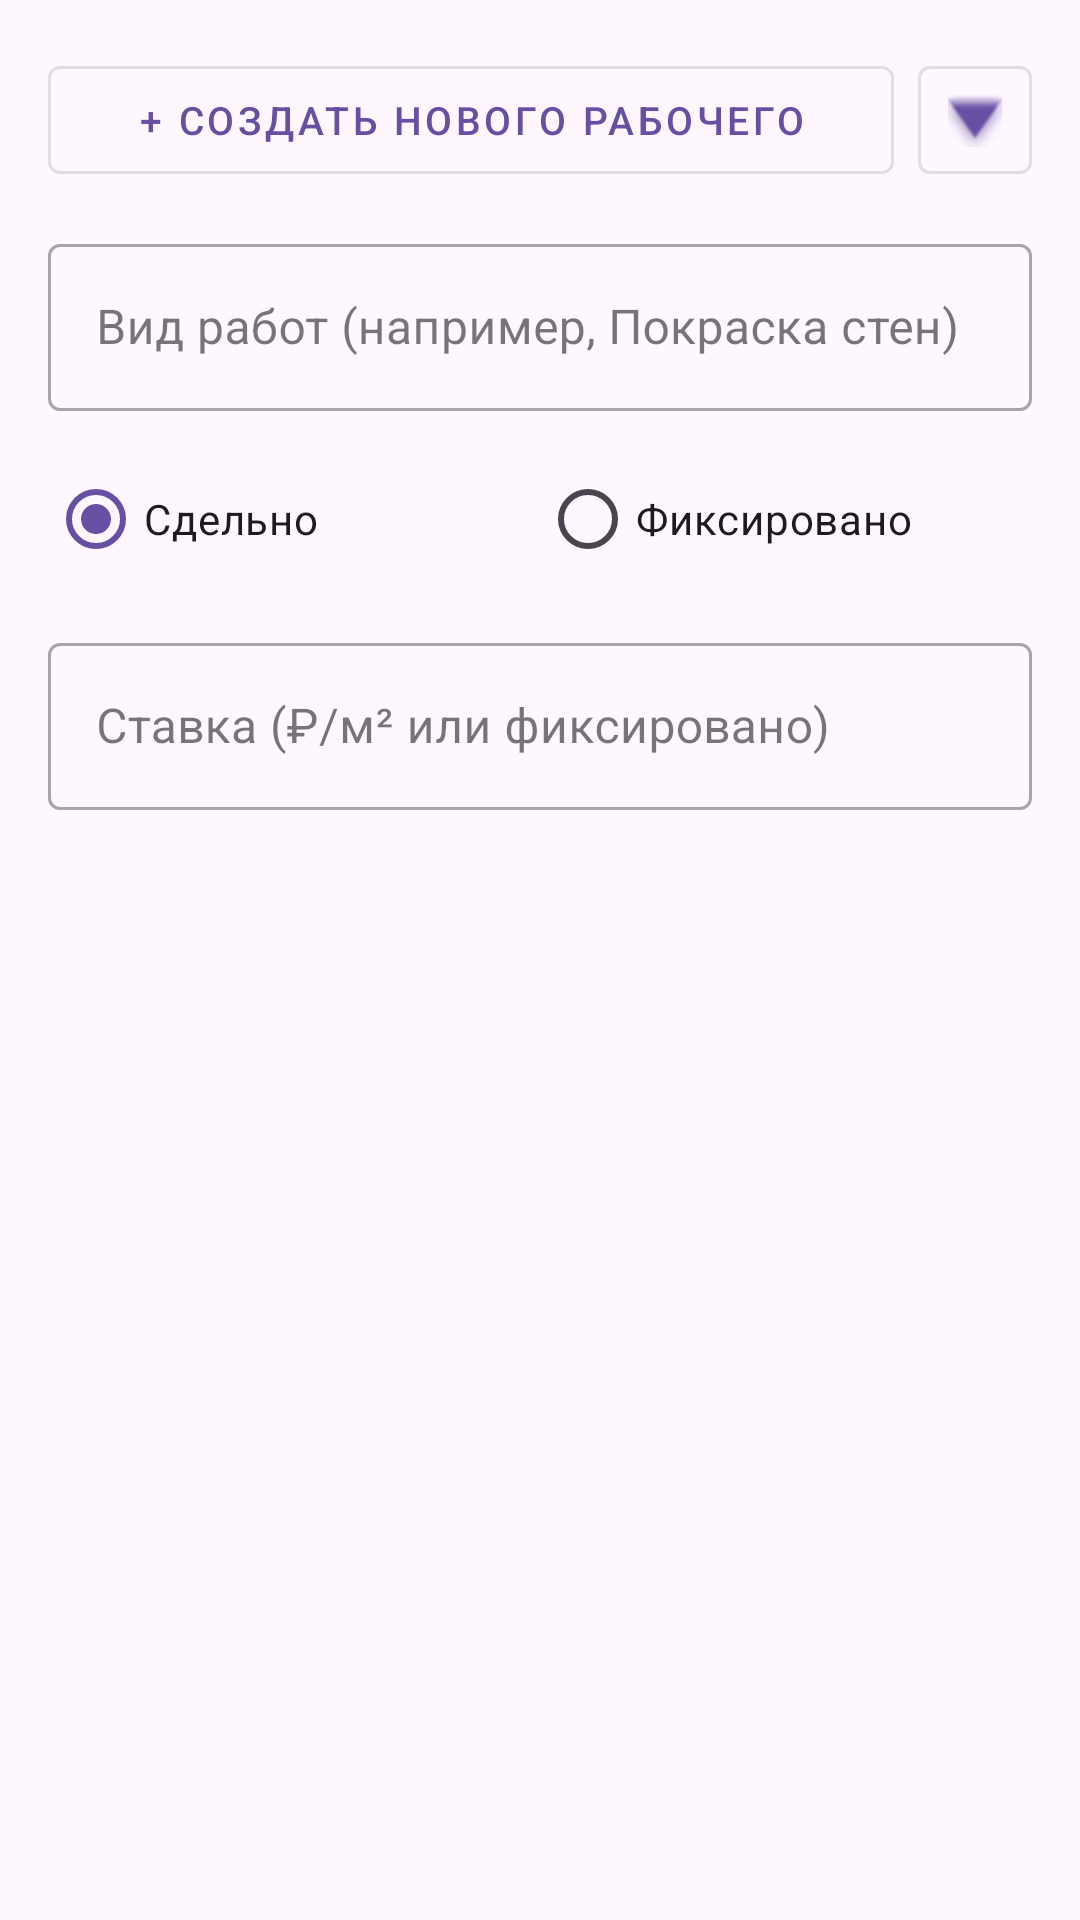

Icons on this 1080px×1920px Android screen, each with the point to tap as [x,y]:
Выбрать рабочего из списка: [975,120]
